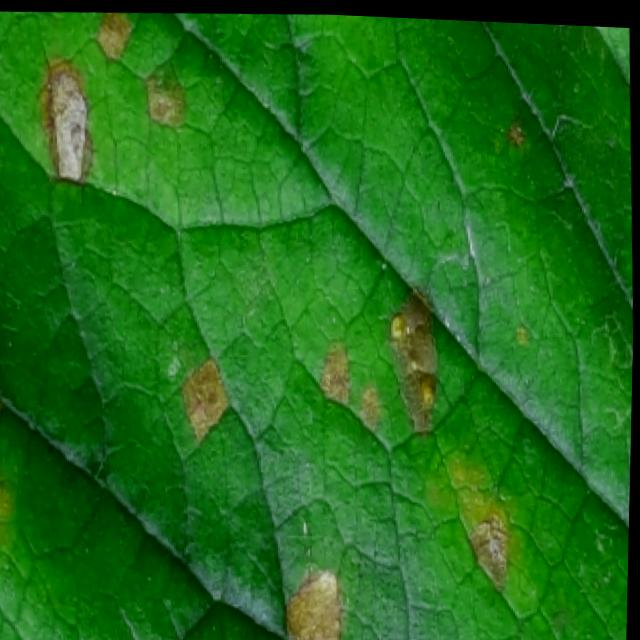Angular Leafspot: (0, 11, 548, 640)
